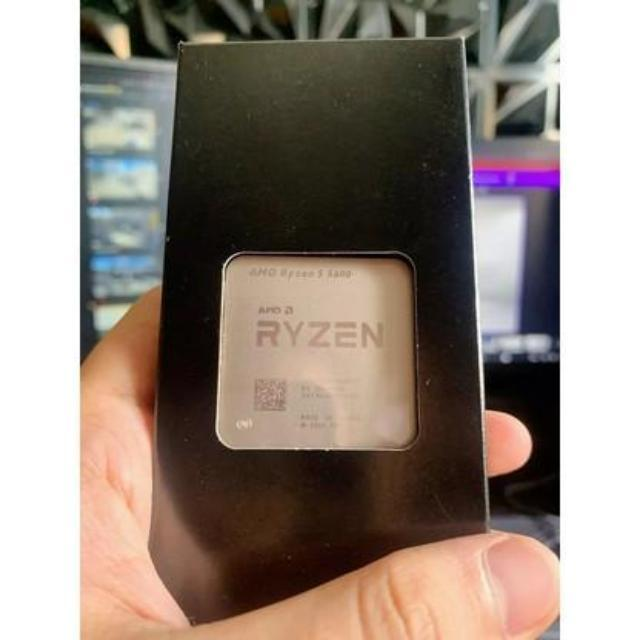CPU: (218, 254, 416, 449)
